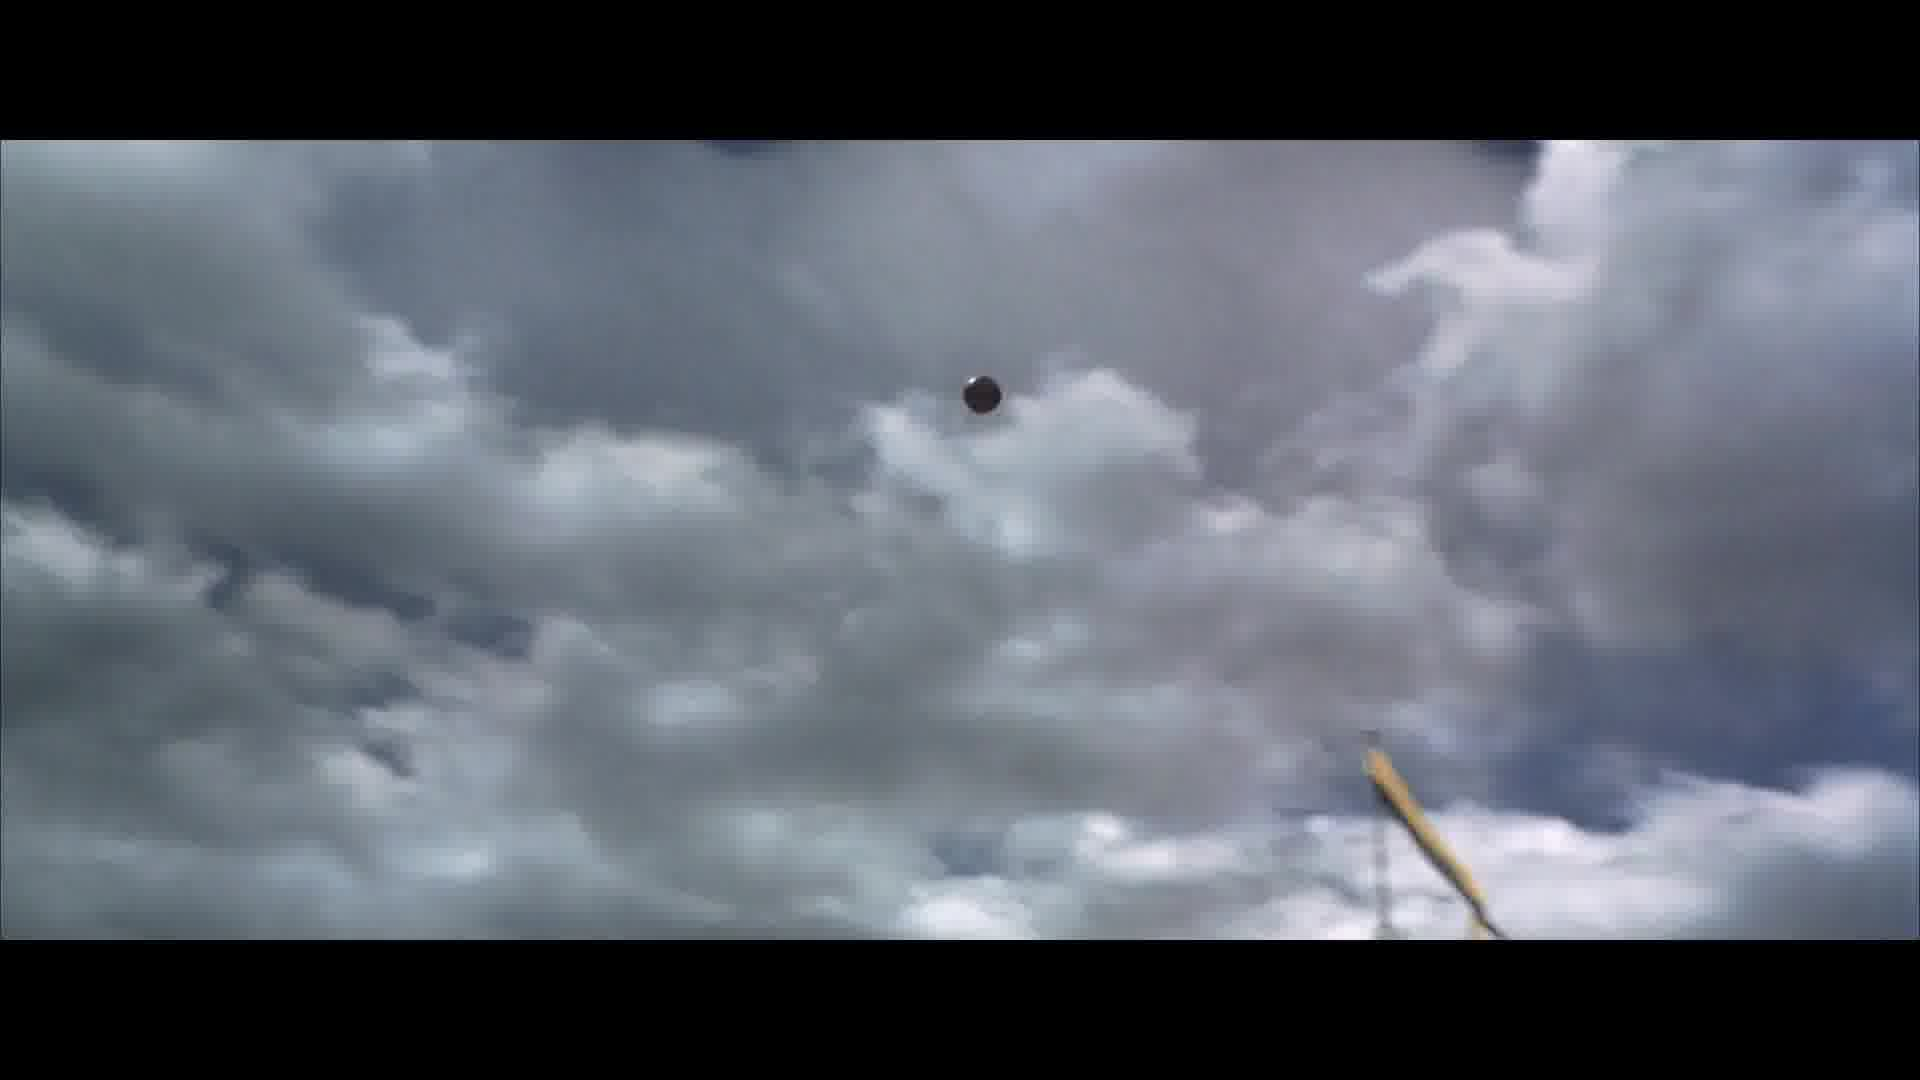bludger: (964, 375, 1004, 415)
